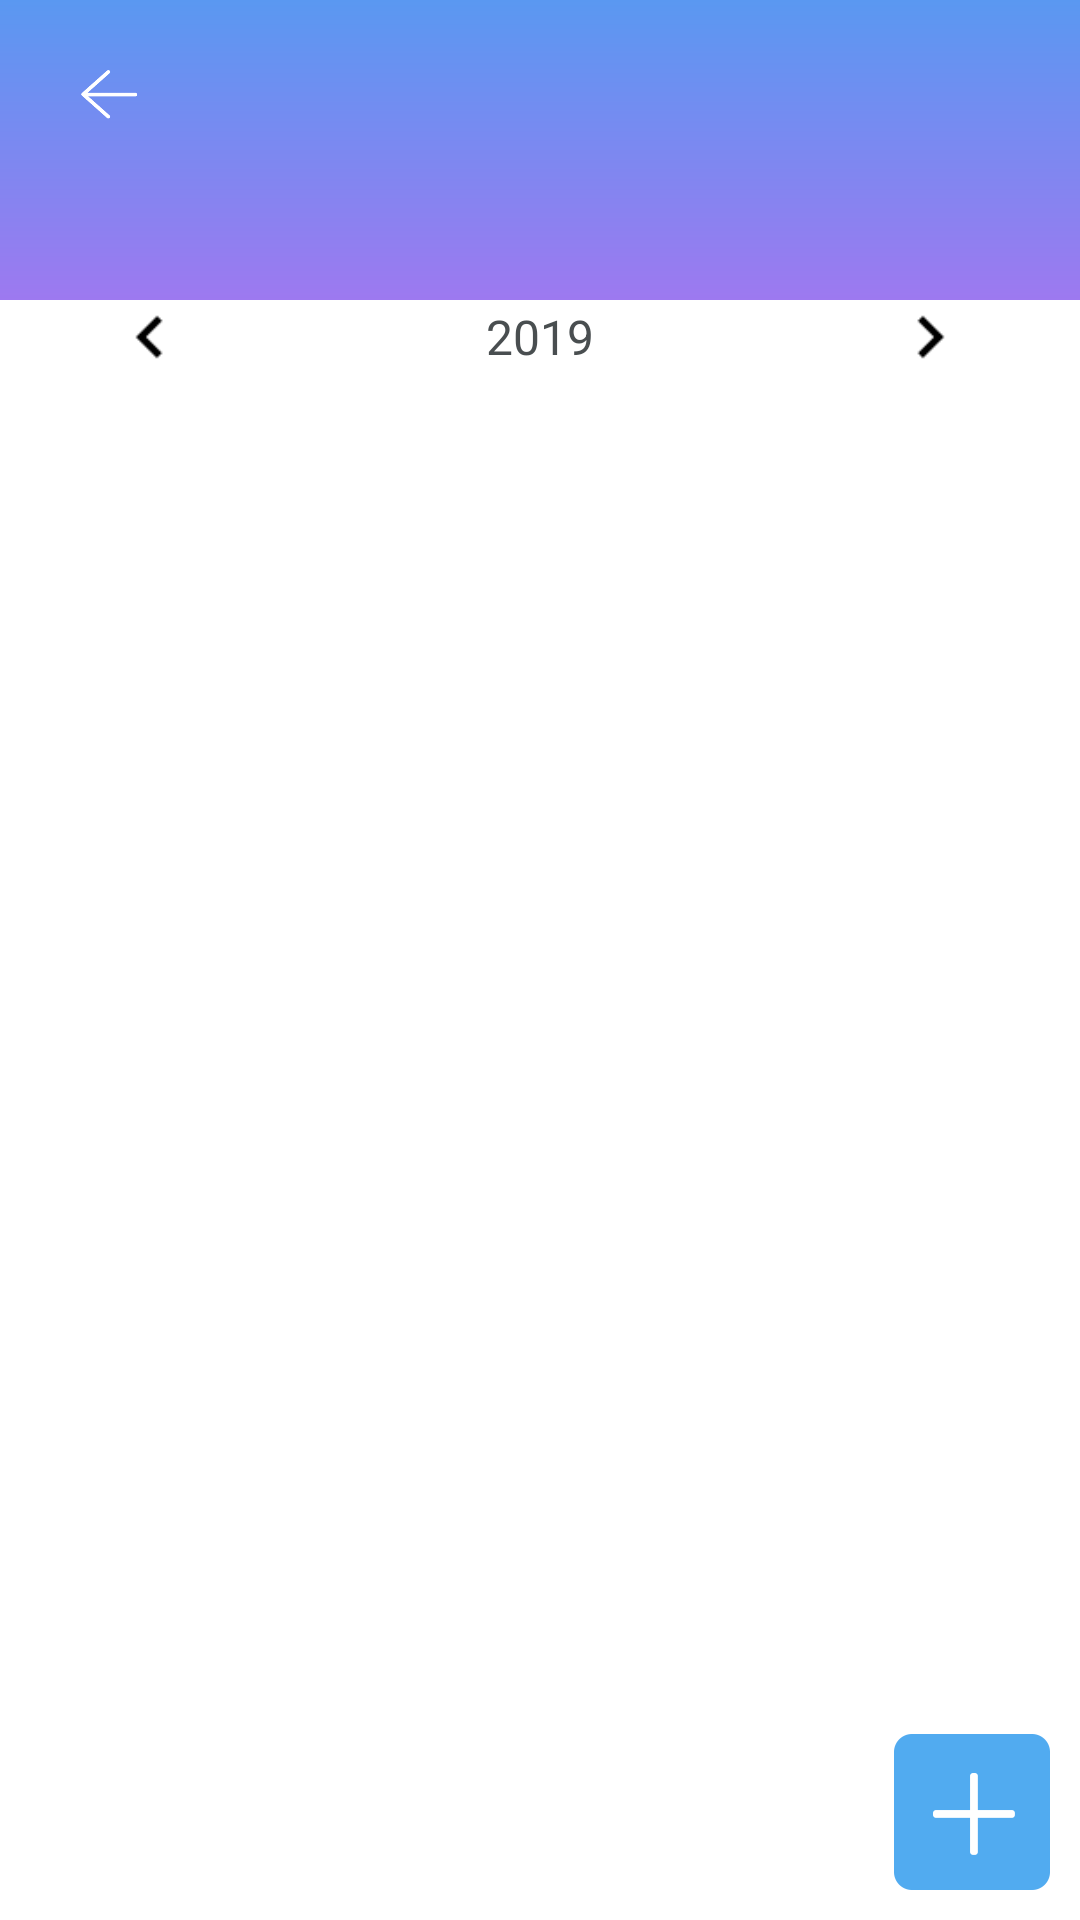

Where to tap for icons on this 1080 × 1920 app screen, as (x=x, y=y):
home add schedule: (x=972, y=1812)
